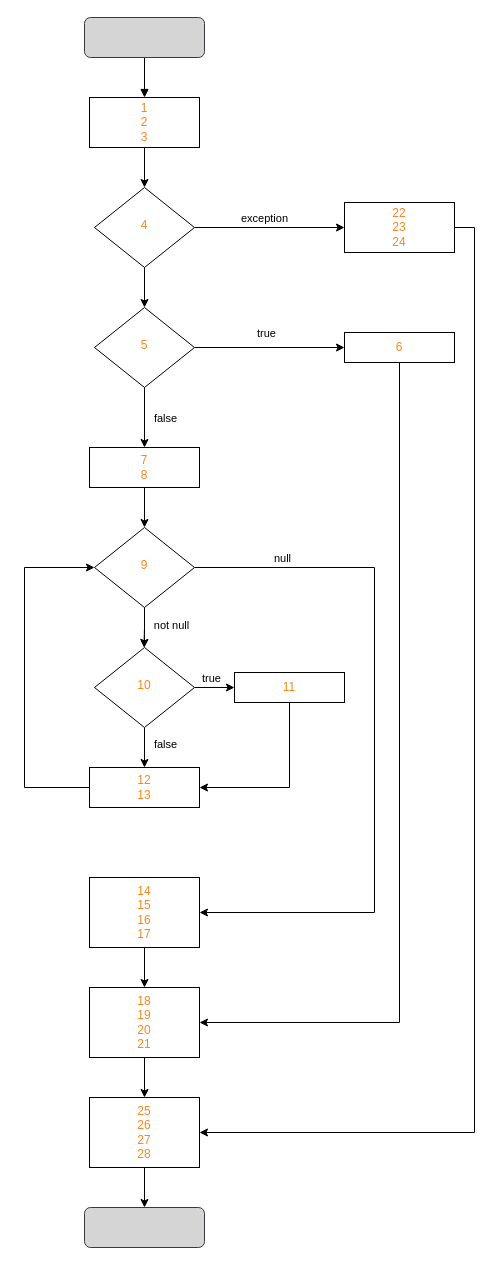
This 500x1265 diagram has some shape labels left out. Here are the shapes that lost their labels. From the top down, the centre of each, then its label:
At [144,37]: "entry".
At [144,1227]: "end".
